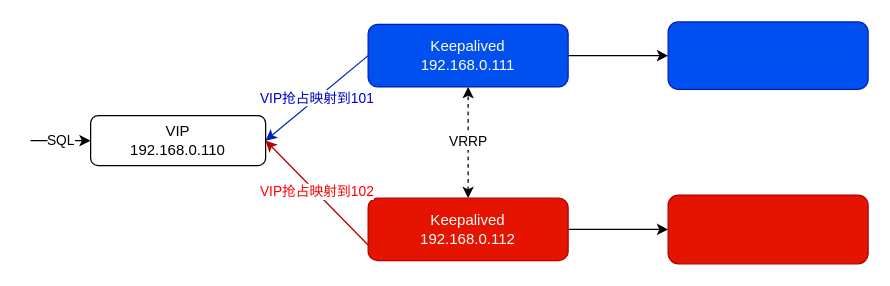
This 890x286 diagram has some shape labels left out. Each missing label, with the centre of its shape:
nginx 192.168.0.111: the point at 767,55
nginx 192.168.0.112: the point at 767,229
